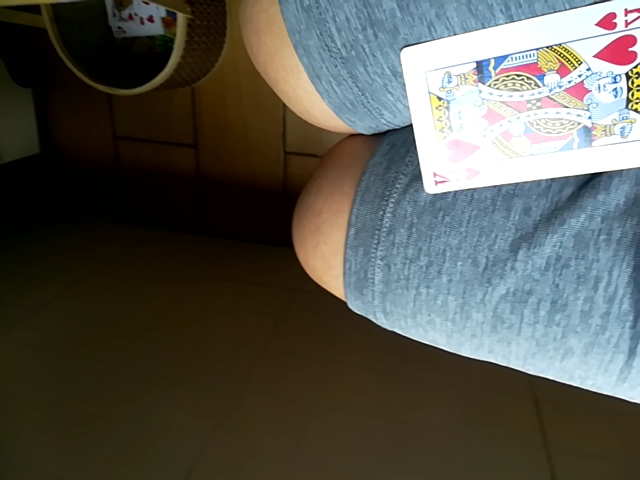hx k: (398, 0, 638, 196)
